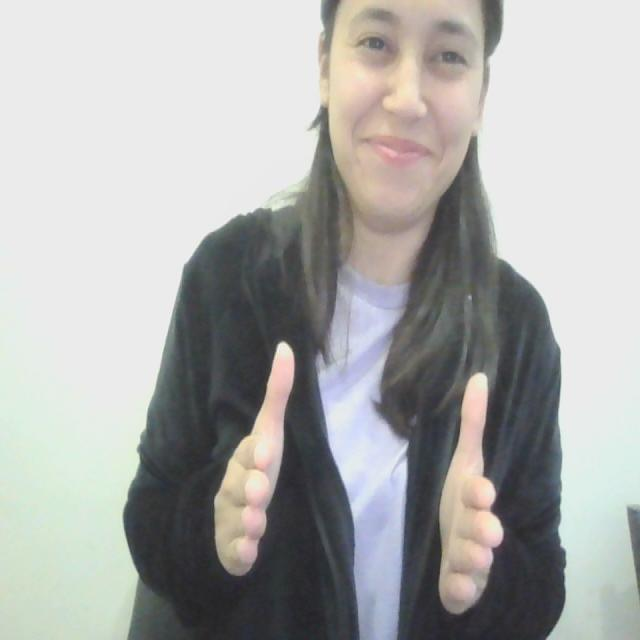Nasil: (209, 332, 511, 623)
